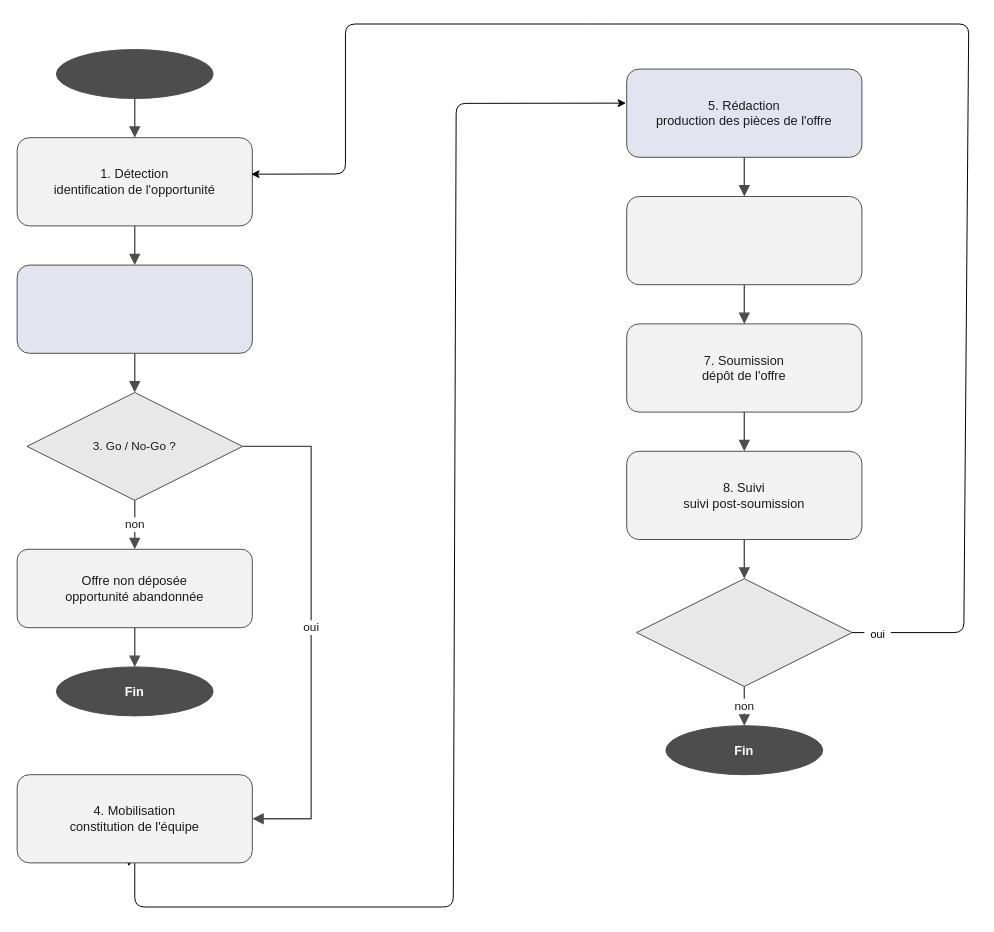
Some shapes in this 994 by 932 pixel diagram are drawn without their labels. The centre of each missing label's shape, as x and y in pixels:
2. Analyse lecture et analyse du DAO: the point at 134,308
6. Vérification contrôle de conformité: the point at 744,240
Début: the point at 134,73
Nouvelle opportunité détectée ?: the point at 744,632
